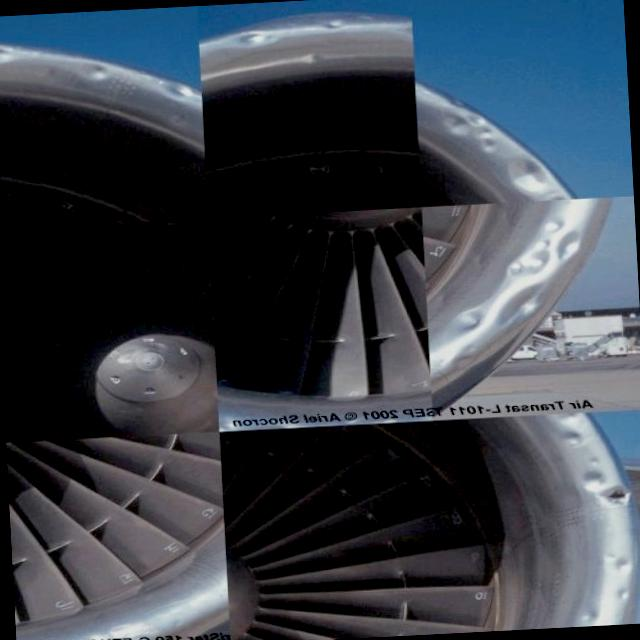dent: (432, 104, 556, 194), (503, 212, 595, 282), (483, 276, 550, 333)
